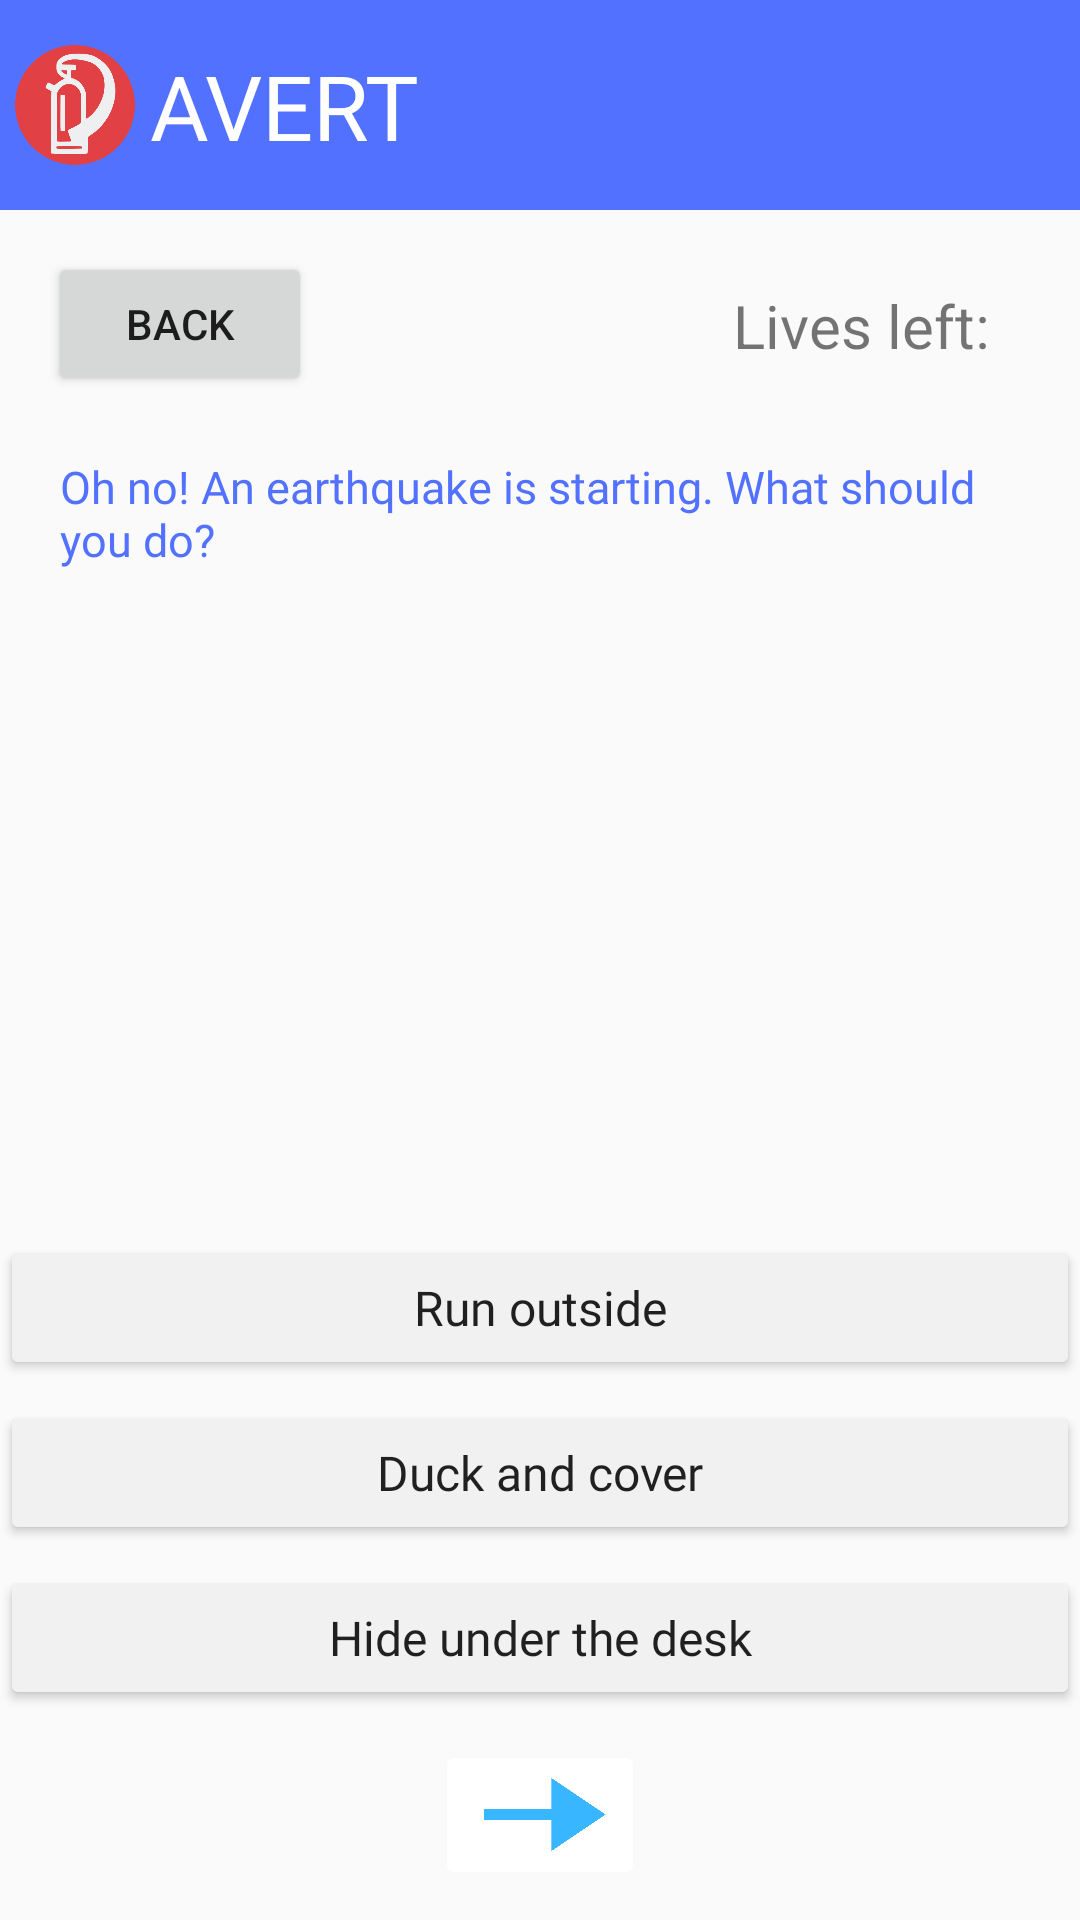

Locate icon controls on the screen. Image size 1080px x 1920px, boxes as [x1=x1, y1=y1, x2=x2, y2=y2].
arrow: [x1=484, y1=1778, x2=606, y2=1851]
